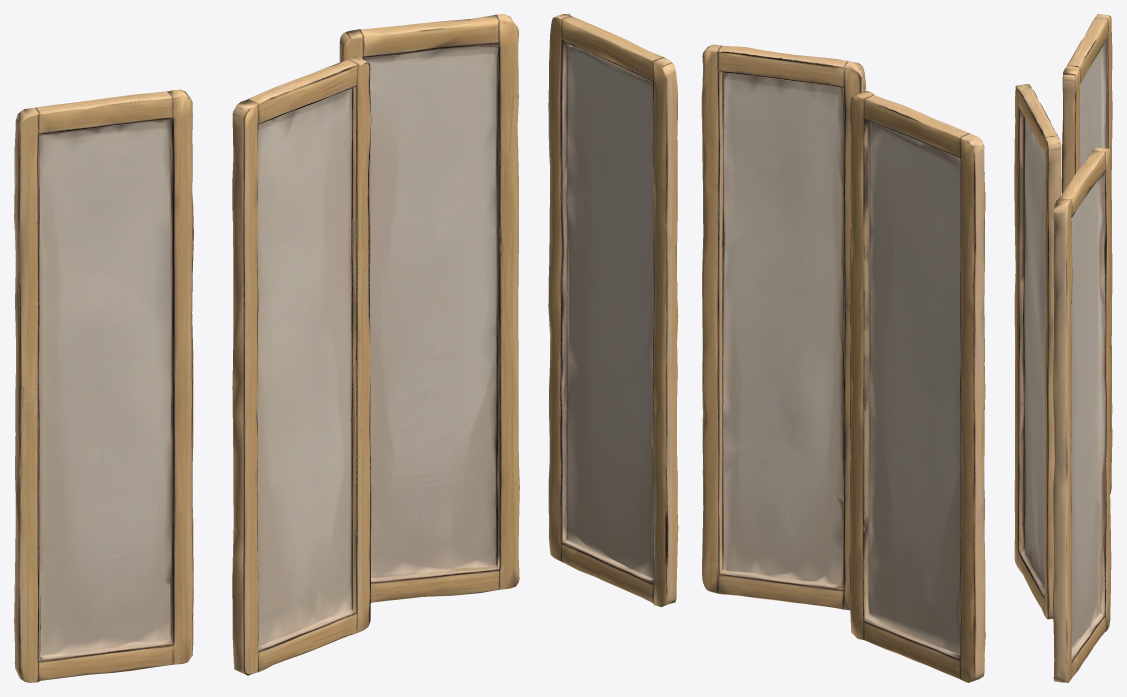
File: room_divider.glb
3 renders of one model, left to right at view 1: azimuth 30°, elevation 25°; view 2: azimuth 150°, elevation 25°; view 3: azimuth 270°, elevation 25°, orthographic. The views are drawn at different scales.
Parts seen in each view (by area): view 1: tripo_node_63b304a0-2ac2-4da4-b2fc-cf91cca9b26e; view 2: tripo_node_63b304a0-2ac2-4da4-b2fc-cf91cca9b26e; view 3: tripo_node_63b304a0-2ac2-4da4-b2fc-cf91cca9b26e.
Boxes of the visible parts, x1,y1,x2,y2 form: tripo_node_63b304a0-2ac2-4da4-b2fc-cf91cca9b26e: [14, 14, 519, 682]; tripo_node_63b304a0-2ac2-4da4-b2fc-cf91cca9b26e: [548, 14, 985, 682]; tripo_node_63b304a0-2ac2-4da4-b2fc-cf91cca9b26e: [1014, 14, 1112, 682].
Size of the model in its own units: 0.8746 by 1 by 0.1849.
Materials: 1 (1 with a texture image).
